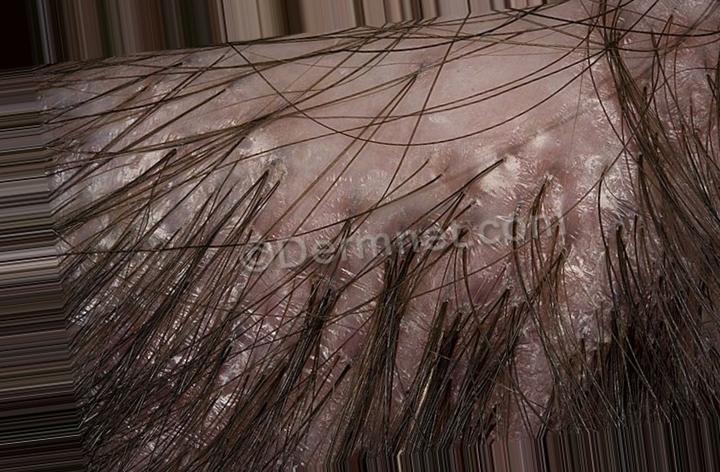Folliculitis: (243, 38, 602, 329)
